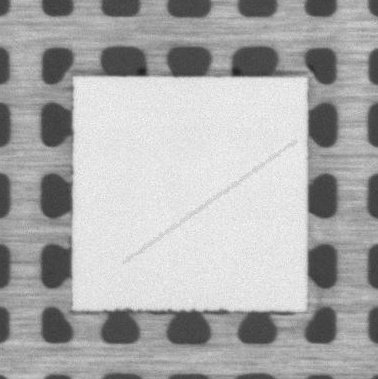DIE_CRACK: (123, 141, 295, 264)
